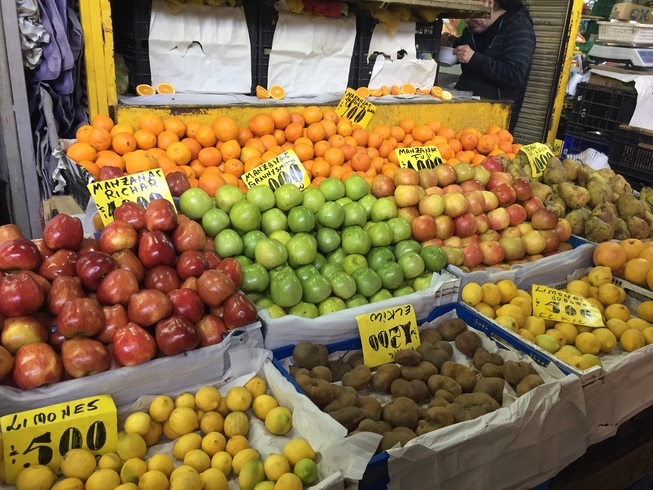precio: (1, 392, 127, 487), (83, 158, 183, 237), (531, 281, 615, 341), (360, 303, 432, 366), (241, 151, 319, 209), (332, 83, 383, 141), (395, 143, 450, 182), (521, 138, 562, 184)
